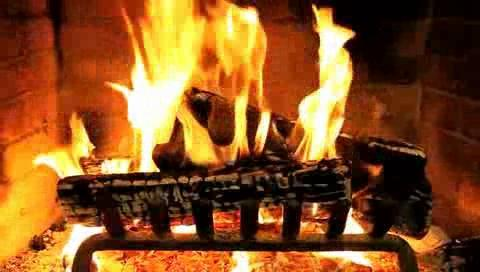fire: (119, 5, 355, 167)
